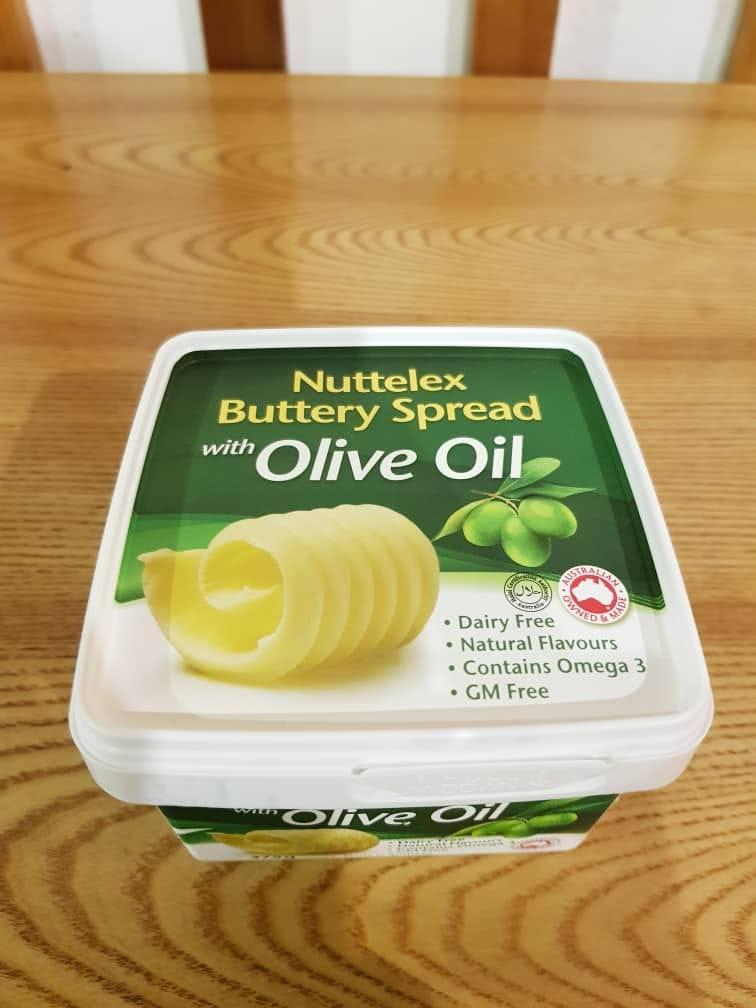plastic: (70, 327, 712, 858)
